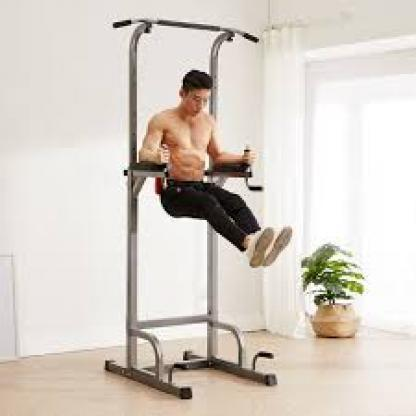chinning dipping: (105, 14, 293, 400)
